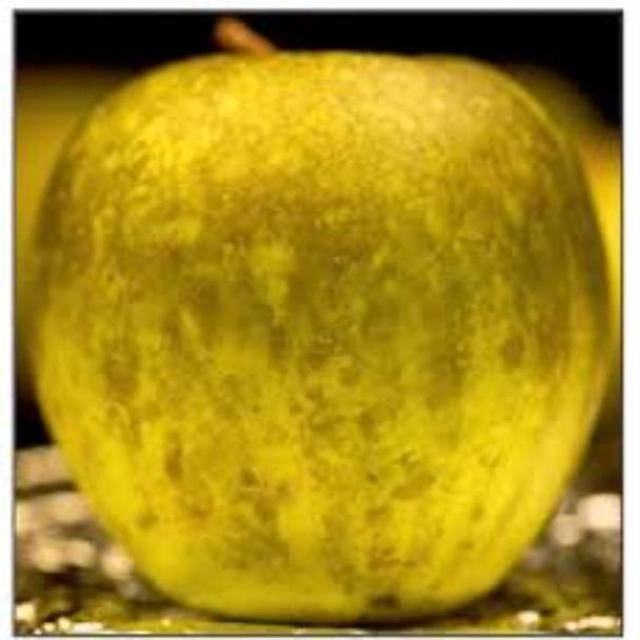BLOTCH: (38, 46, 587, 614)
